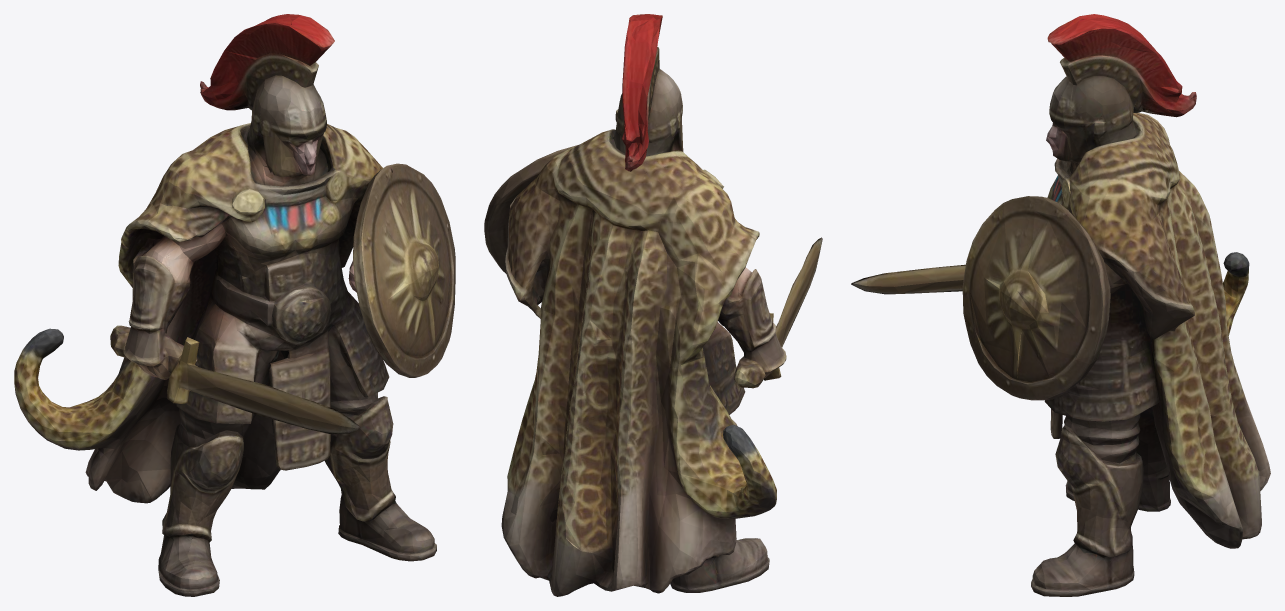
The model's file is fortCenturion.glb.
The picture shows the model from 3 angles, left to right: view 1: azimuth 30°, elevation 25°; view 2: azimuth 150°, elevation 25°; view 3: azimuth 270°, elevation 25°; orthographic projection. The views are drawn at different scales.
Parts seen in each view (by area): view 1: world; view 2: world; view 3: world.
Part boxes in pixels (x1,y1,x2,y2): world: (14, 14, 455, 596); world: (484, 14, 822, 596); world: (851, 14, 1270, 596).
Size of the model in its own units: 0.7079 by 0.9995 by 0.7317.
1 material, 1 textured.
